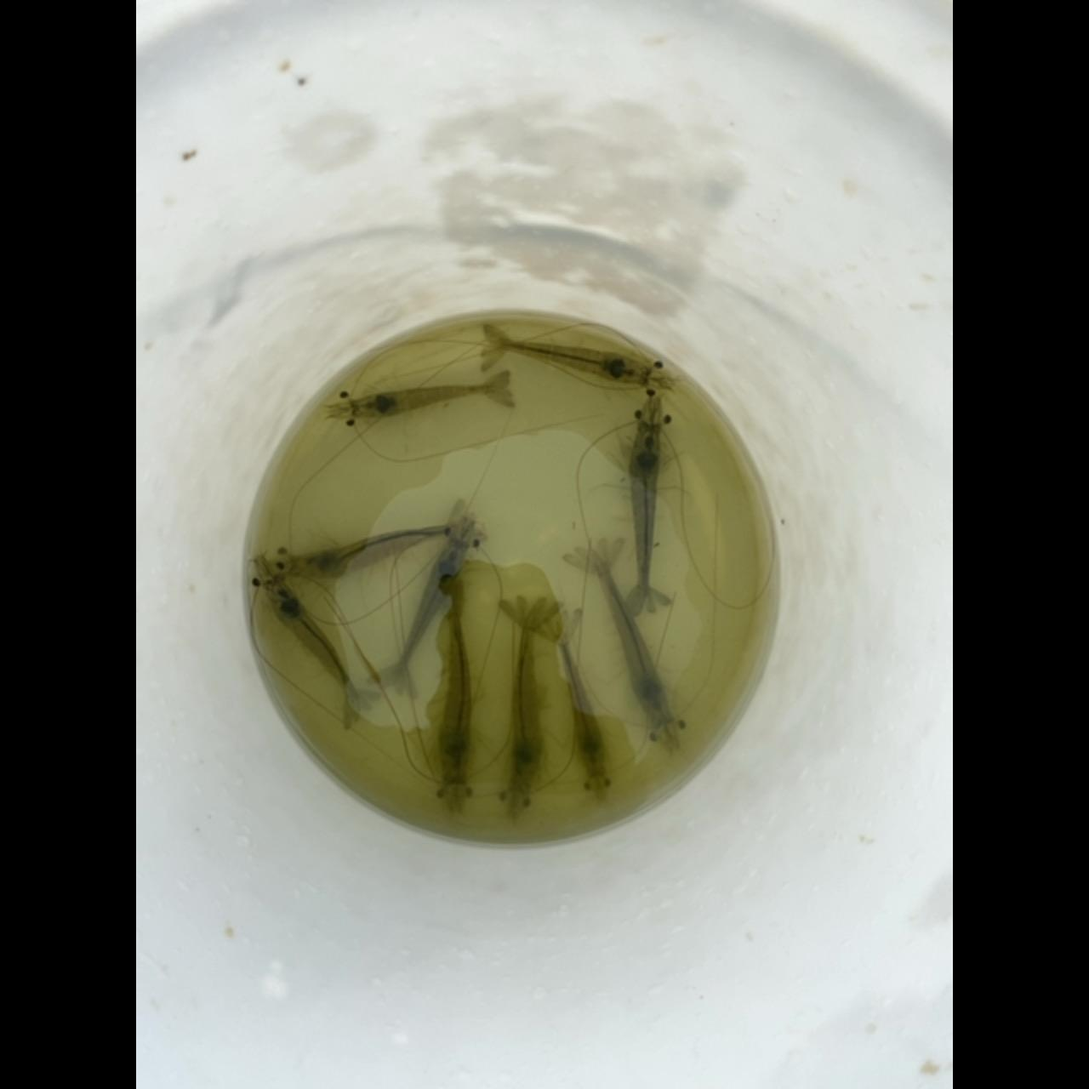round_base: (254, 318, 767, 833)
top_shrimp: (592, 550, 670, 725), (266, 578, 360, 707), (394, 541, 465, 683), (292, 524, 465, 579), (555, 627, 606, 775), (438, 575, 472, 784), (490, 340, 649, 384), (510, 607, 542, 791), (630, 422, 660, 607), (351, 385, 504, 418)
